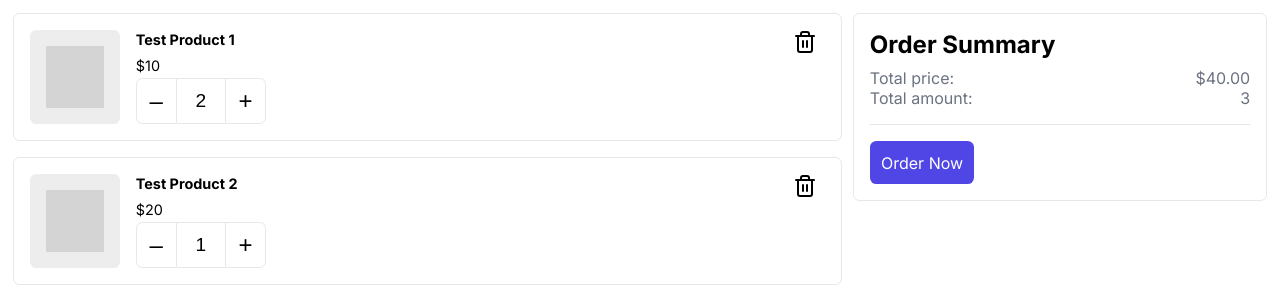
it: Cart component › should delete the product from the cart
Click the 1st button with test id "delete-button" at {"x": 805, "y": 43}, box [785,30,825,57]
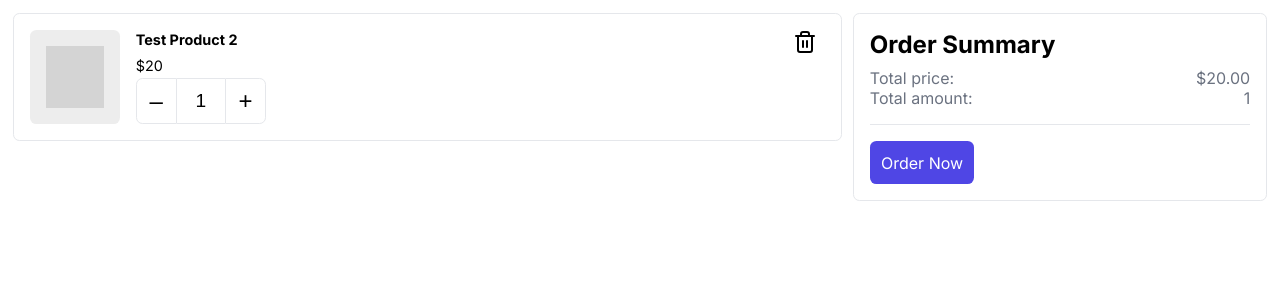
Now the number of elements with test id "cart-card" is 1, box [13,13,842,141]
Now the text "Total price: $20.00" is shown, box [870,68,1250,88]
Now the text "Total amount: 1" is shown, box [870,88,1250,108]
